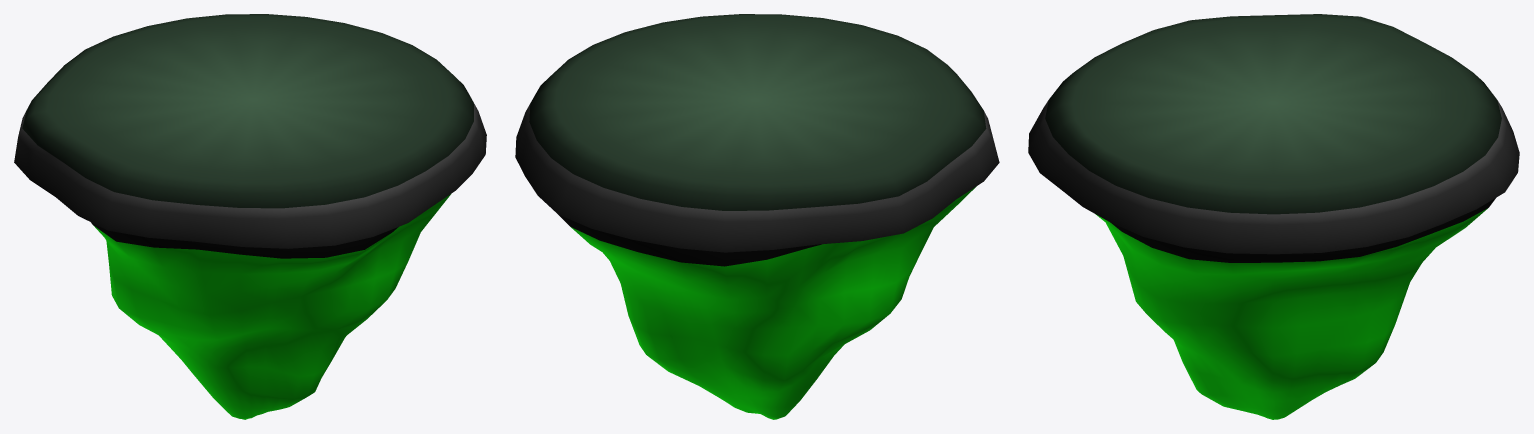
File: SM_FloatingIsland_002.fbx
3 renders of one model, left to right at view 1: azimuth 30°, elevation 25°; view 2: azimuth 150°, elevation 25°; view 3: azimuth 270°, elevation 25°, orthographic.
Parts seen in each view (by area): view 1: polySurface25; view 2: polySurface25; view 3: polySurface25.
Part boxes in pixels (left/top/right/bottom): polySurface25: left=14, top=14, right=486, bottom=419; polySurface25: left=515, top=14, right=999, bottom=419; polySurface25: left=1028, top=14, right=1519, bottom=419.
Bounding box in the file's own units: 2306 × 1705 × 2386.
